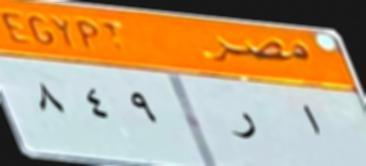4: (84, 84, 110, 126)
8: (32, 79, 68, 122)
9: (126, 90, 161, 131)
alif: (296, 95, 324, 144)
raa: (226, 108, 260, 146)
